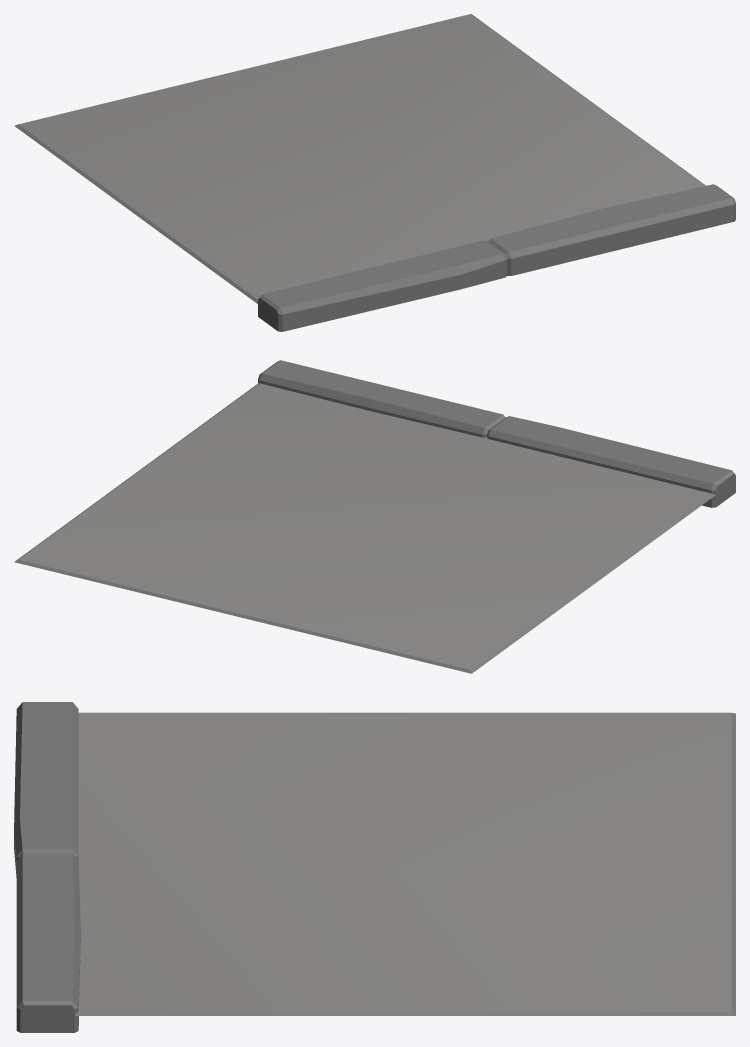
The model's file is SM_Envr_Road_Sidewalk_03.fbx.
The picture shows the model from 3 angles, top to bottom: view 1: azimuth 30°, elevation 25°; view 2: azimuth 150°, elevation 25°; view 3: azimuth 270°, elevation 25°; orthographic projection. The views are drawn at different scales.
Parts seen in each view (by area): view 1: SM_Envr_Road_Sidewalk_03; view 2: SM_Envr_Road_Sidewalk_03; view 3: SM_Envr_Road_Sidewalk_03.
Boxes of the visible parts, box(x1,y1,x2,y2) form: SM_Envr_Road_Sidewalk_03: box(14, 14, 735, 331); SM_Envr_Road_Sidewalk_03: box(14, 360, 735, 673); SM_Envr_Road_Sidewalk_03: box(14, 702, 735, 1032).
Bounding box in the file's own units: 500 × 25.53 × 505.
